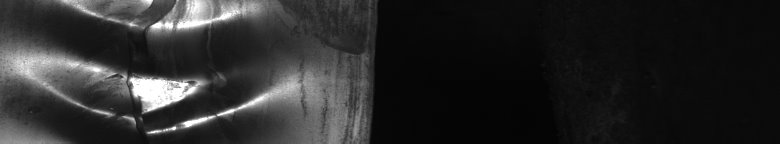ke: (25, 4, 360, 136)
